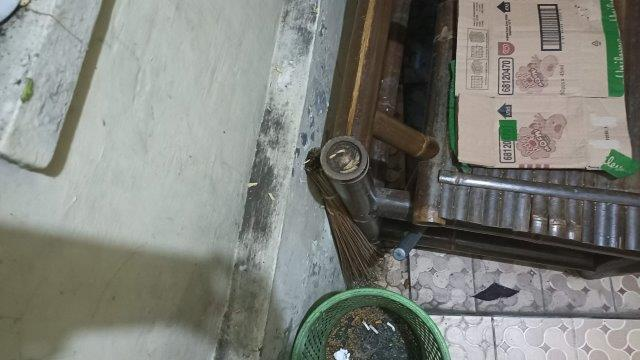kardus: (455, 2, 633, 169)
